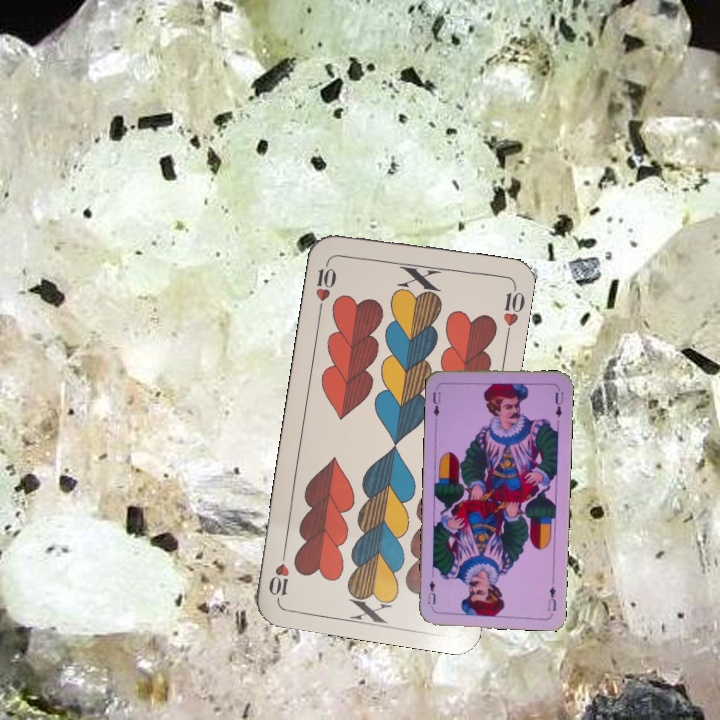EU: (429, 381, 443, 419), (543, 582, 559, 613)
H10: (311, 255, 339, 314)
